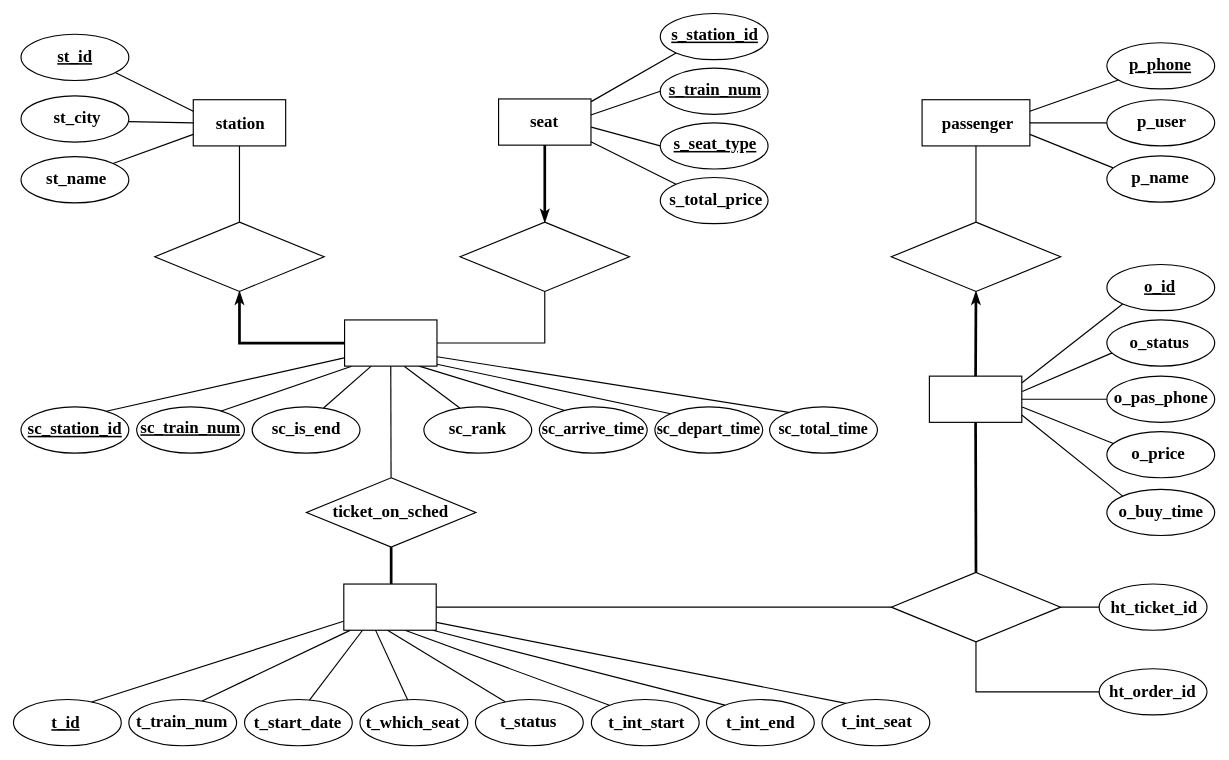
Some shapes in this 1229 by 760 pixel diagram are drawn without their labels. The centre of each missing label's shape, as x and y in pixels:
has_ticket: the point at 975,607
history: the point at 975,256
ordering: the point at 975,399
scheduler: the point at 390,342
seat_equipped: the point at 544,256
station_to_go: the point at 239,256
ticket: the point at 389,606
